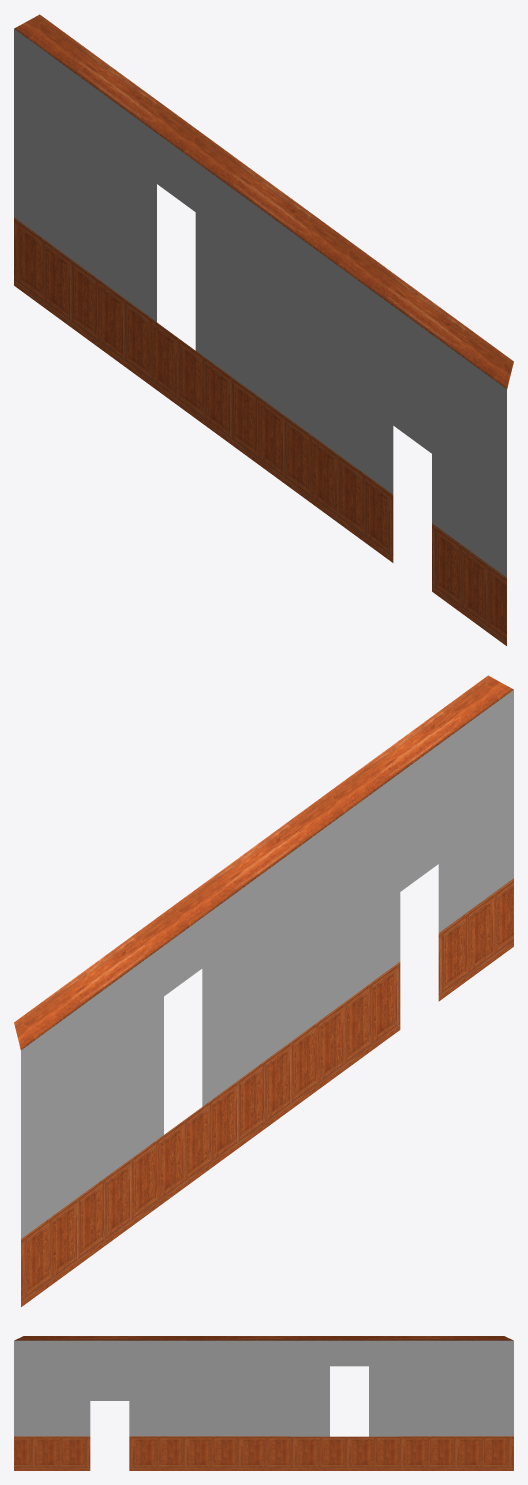
File: Wand_13_02.dae
3 views of the same model, one above another, from view 1: azimuth 30°, elevation 25°; view 2: azimuth 150°, elevation 25°; view 3: azimuth 270°, elevation 25° (orthographic). The views are drawn at different scales.
Visible parts, largest first — view 1: Wand_13.003; view 2: Wand_13.003; view 3: Wand_13.003.
Part boxes in pixels (x1,y1,x2,y2): Wand_13.003: (14,14,513,645); Wand_13.003: (14,675,513,1306); Wand_13.003: (14,1336,513,1470).
Size of the model in its own units: 0.25 by 13.04 by 4.
